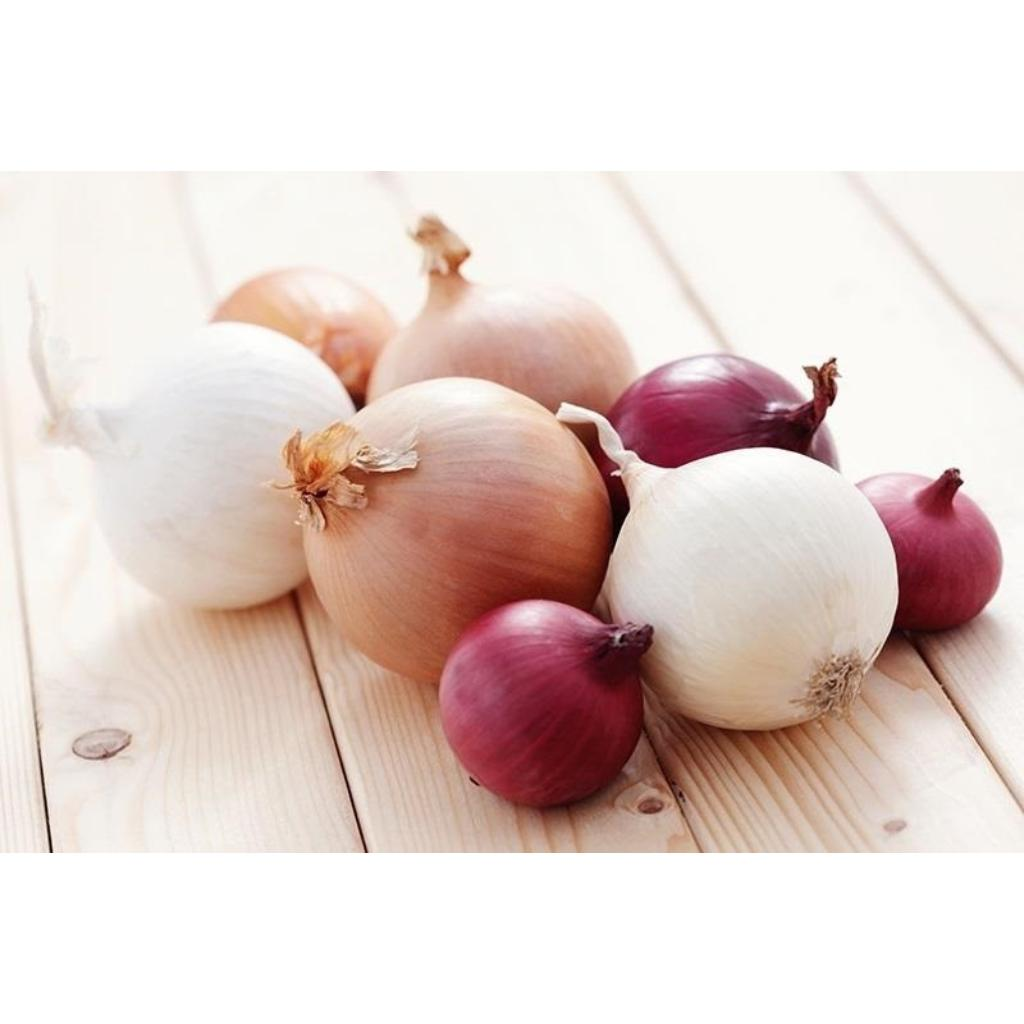Onion: (558, 404, 900, 731), (270, 377, 612, 681), (28, 291, 353, 609), (367, 213, 637, 411), (439, 600, 653, 808), (608, 353, 841, 469), (213, 268, 397, 407), (859, 468, 1005, 630)
